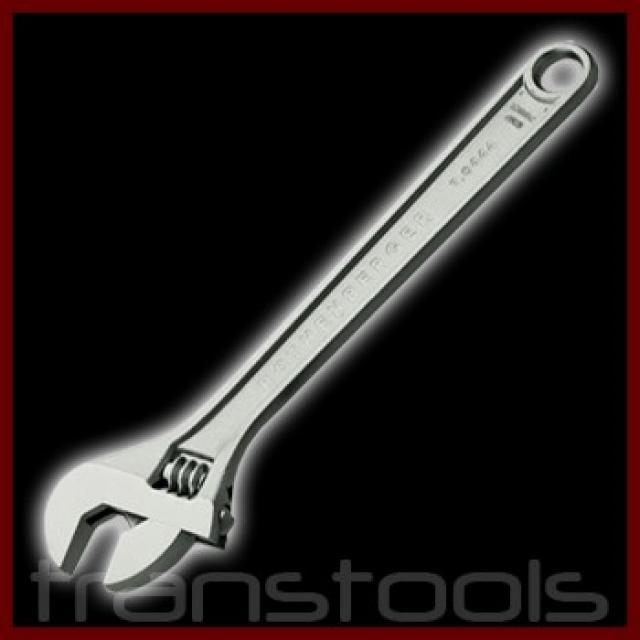wrench: (39, 32, 606, 604)
